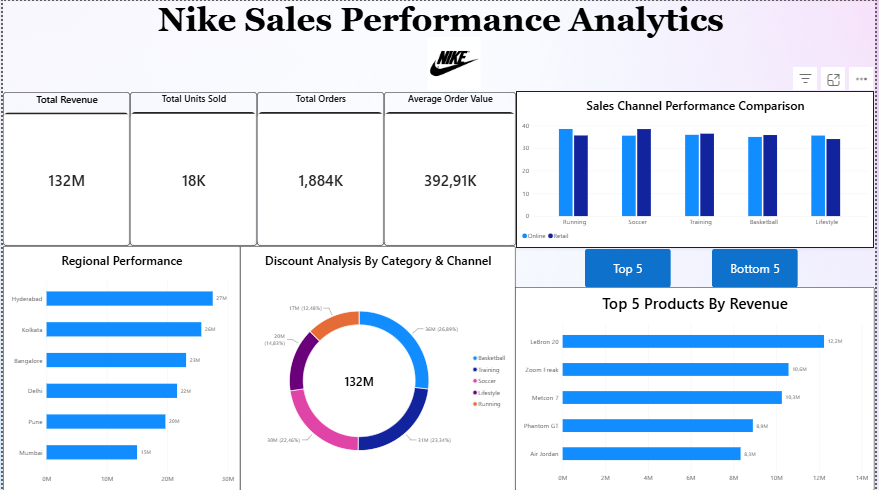

The page's visual inventory and layout, read from the dashboard file:
{"tool":"powerbi","page":{"name":"Σελίδα 1","canvas":[1920,1080],"ordinal":0},"visuals":[{"type":"cardVisual","title":"Total Revenue","fields":{"Data":["Sum(Nike_Sales_Cleaned.Revenue)"]},"box":[0,200.6,279.9,339.4],"z":0},{"type":"cardVisual","title":"Total Units Sold","fields":{"Data":["Sum(Nike_Sales_Cleaned.Units_Sold)"]},"box":[279.9,200.6,279.9,339.4],"z":1000},{"type":"cardVisual","title":"Total Orders","fields":{"Data":["CountNonNull(Nike_Sales_Cleaned.Order_ID)"]},"box":[559.8,200.6,279.9,339.4],"z":2000},{"type":"cardVisual","title":"Average Order Value","fields":{"Data":["Avg(Nike_Sales_Cleaned.Revenue)"]},"box":[839.8,200.6,290.9,339.4],"z":3000},{"type":"clusteredBarChart","title":"Regional Performance","fields":{"Category":["Nike_Sales_Cleaned.Region"],"Y":["Sum(Nike_Sales_Cleaned.Revenue)"]},"box":[0,540,522.7,540],"z":4000},{"type":"donutChart","title":"Discount Analysis By Category & Channel","fields":{"Category":["Nike_Sales_Cleaned.Product_Line"],"Y":["Sum(Nike_Sales_Cleaned.Revenue)"]},"box":[522.7,540,607.2,542.2],"z":5000},{"type":"clusteredColumnChart","title":"Sales Channel Performance Comparison","fields":{"Category":["Nike_Sales_Cleaned.Product_Line"],"Series":["Nike_Sales_Cleaned.Sales_Channel"],"Y":["Avg(Nike_Sales_Cleaned.Discount_Applied)"]},"box":[1130.7,198.4,789.1,346],"z":6000},{"type":"clusteredBarChart","title":"Top 5 Products By Revenue","fields":{"Category":["Nike_Sales_Cleaned.Product_Name"],"Y":["Sum(Nike_Sales_Cleaned.Revenue)"]},"box":[1127.7,631.1,791.6,448.9],"z":7000},{"type":"actionButton","box":[1281.7,546.5,189.3,84.5],"z":9000},{"type":"actionButton","box":[1563.6,546.5,189.3,84.5],"z":10000},{"type":"textbox","box":[10.8,0,1908.4,199.5],"z":10001},{"type":"image","box":[687.5,80.2,613.7,117.1],"z":10002}]}

Visuals, with their boxes in screenshot pixels (x1, y1, x2, y2), scaled from the page's 1920x1080 canvas onto the 879x490 screenshot:
"Total Revenue" cardVisual: bbox=[0, 91, 128, 245]
"Total Units Sold" cardVisual: bbox=[128, 91, 256, 245]
"Total Orders" cardVisual: bbox=[256, 91, 384, 245]
"Average Order Value" cardVisual: bbox=[384, 91, 518, 245]
"Regional Performance" clusteredBarChart: bbox=[0, 245, 239, 489]
"Discount Analysis By Category & Channel" donutChart: bbox=[239, 245, 517, 489]
"Sales Channel Performance Comparison" clusteredColumnChart: bbox=[518, 90, 878, 247]
"Top 5 Products By Revenue" clusteredBarChart: bbox=[516, 286, 878, 489]
actionButton: bbox=[587, 248, 673, 286]
actionButton: bbox=[716, 248, 802, 286]
textbox: bbox=[5, 0, 878, 91]
image: bbox=[315, 36, 596, 90]
